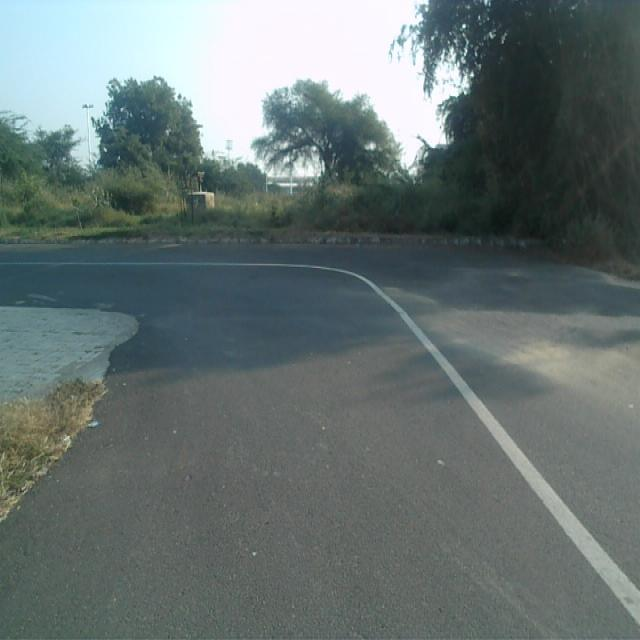lane: (0, 261, 640, 640)
